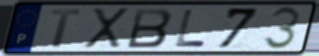3: (261, 5, 303, 51)
7: (215, 7, 262, 50)
B: (125, 7, 175, 50)
L: (173, 9, 208, 49)
T: (49, 8, 84, 49)
X: (83, 6, 131, 50)
